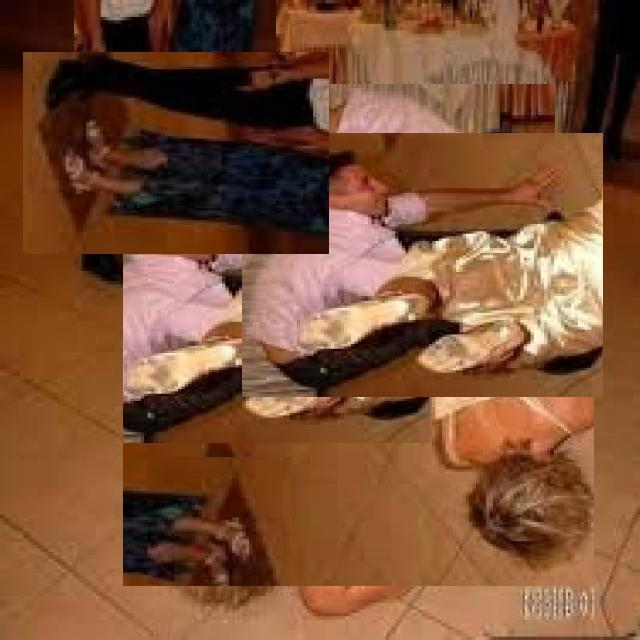Fall: (376, 242, 629, 418)
NotFall: (210, 163, 423, 379)
